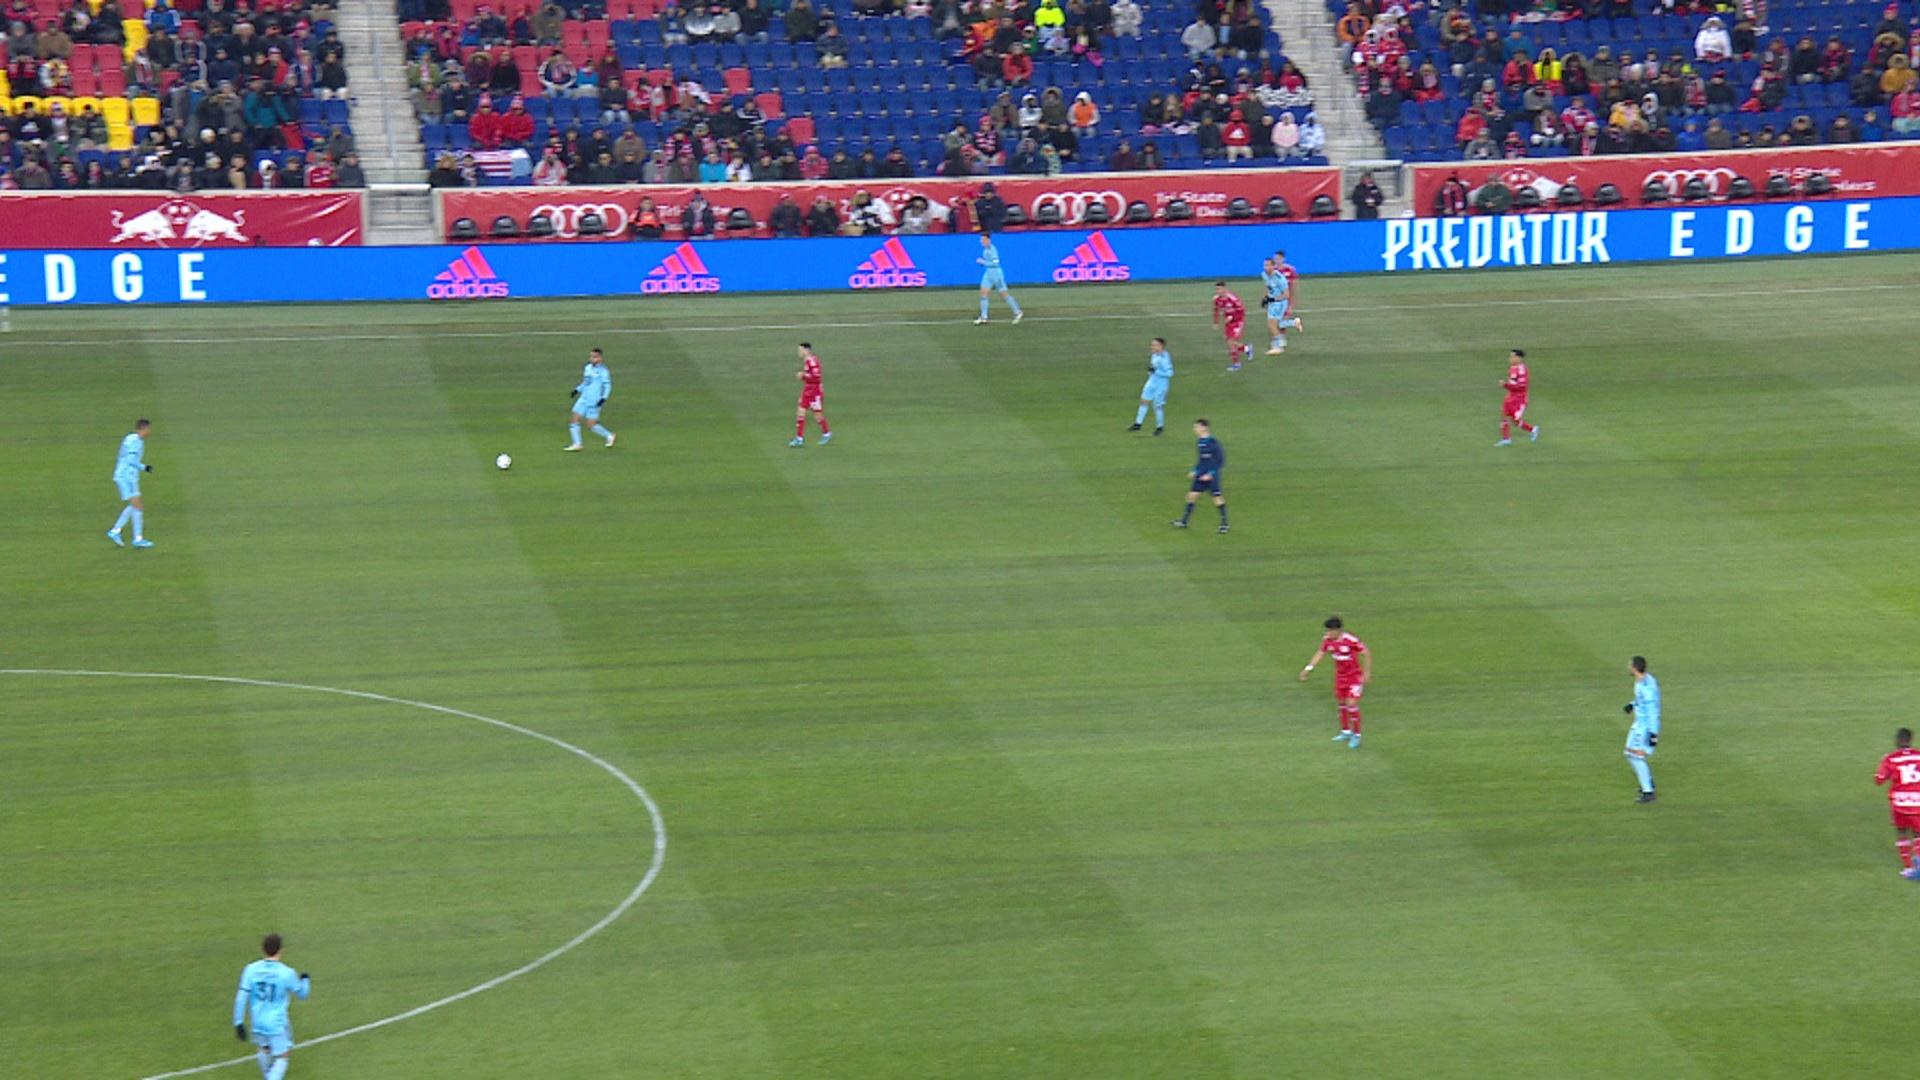football: (495, 451, 514, 470)
